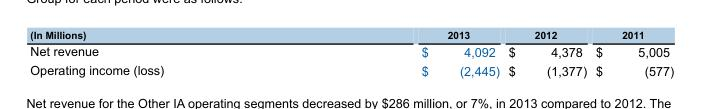table: (29, 28, 673, 77)
table column: (29, 28, 292, 77), (292, 28, 503, 77), (503, 28, 590, 77), (590, 28, 673, 77)
table column header: (29, 28, 673, 41)
table row: (29, 41, 673, 60), (29, 60, 673, 77), (29, 28, 673, 41)
